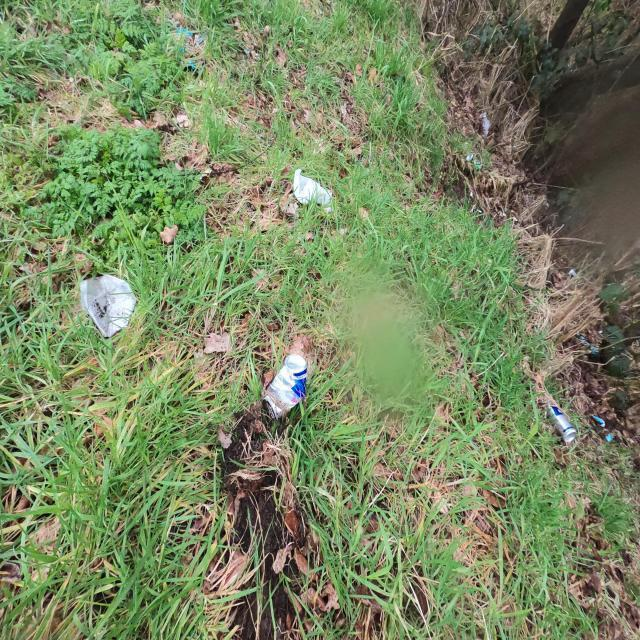Can-Metal: (260, 352, 308, 422), (546, 404, 578, 444), (466, 152, 482, 170)
Paper: (292, 168, 334, 212), (480, 111, 490, 138)
